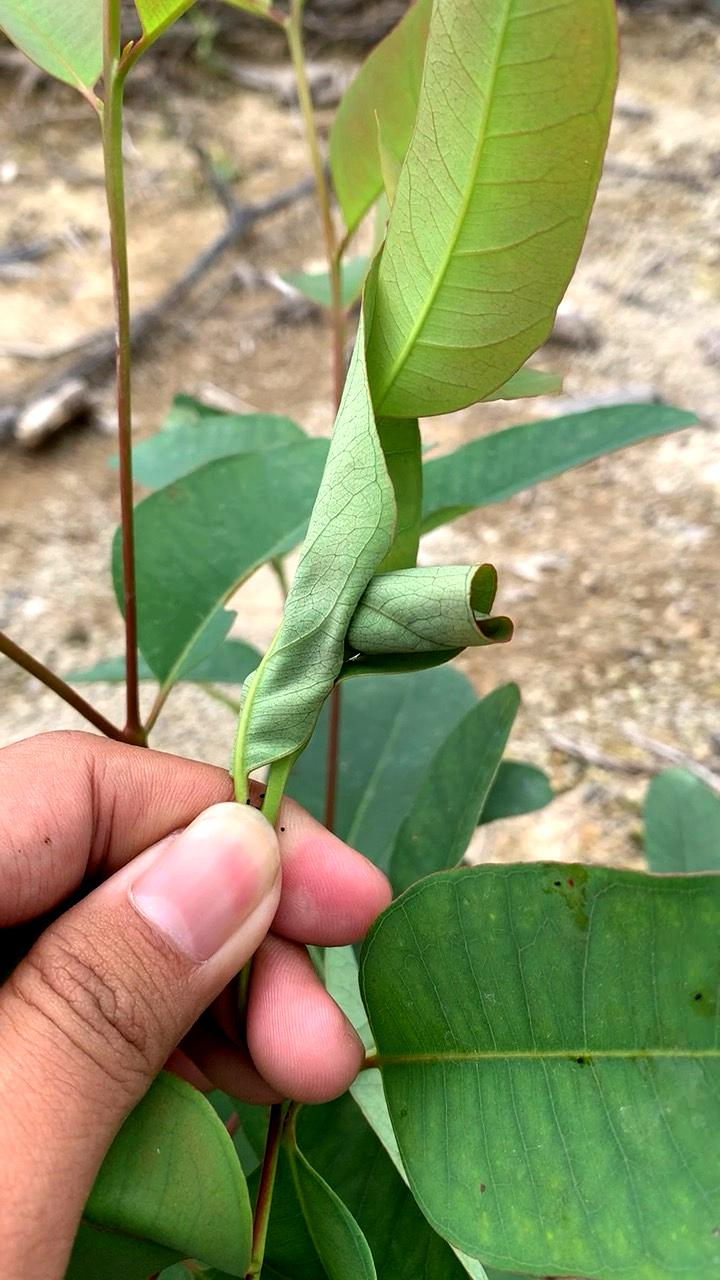Leaf Roller - Leaf: (229, 513, 553, 730)
